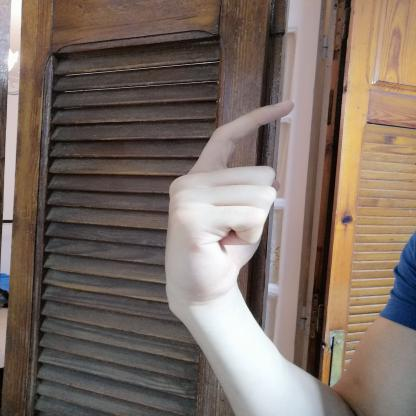RAA: (147, 92, 310, 313)
